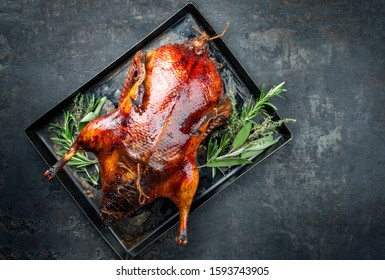peking_duck: (40, 31, 284, 248)
